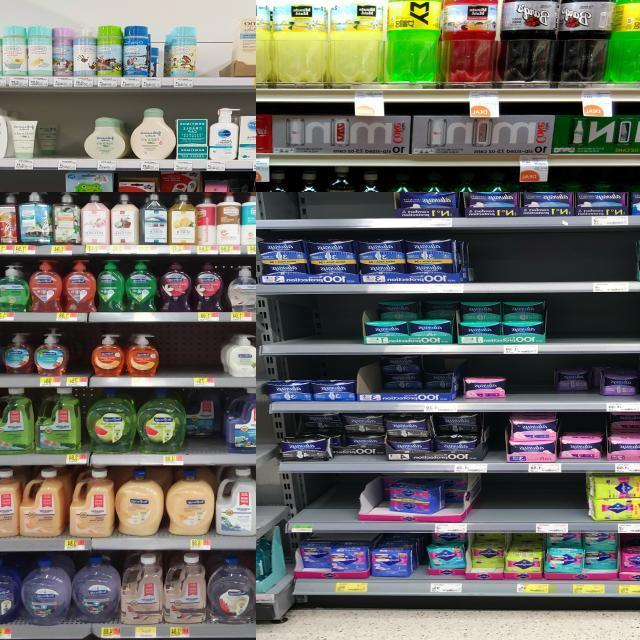Imprecise: (367, 472, 467, 518), (174, 386, 232, 456), (372, 300, 456, 338), (469, 534, 544, 574), (364, 360, 452, 394), (335, 412, 385, 465), (424, 529, 470, 575), (578, 532, 622, 578), (605, 410, 640, 461), (546, 534, 580, 580), (551, 368, 592, 402), (34, 119, 62, 160)
